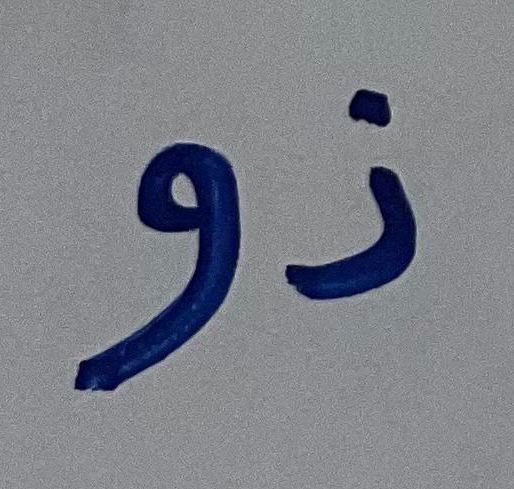noon: (271, 65, 445, 331)
waw: (49, 101, 261, 417)
